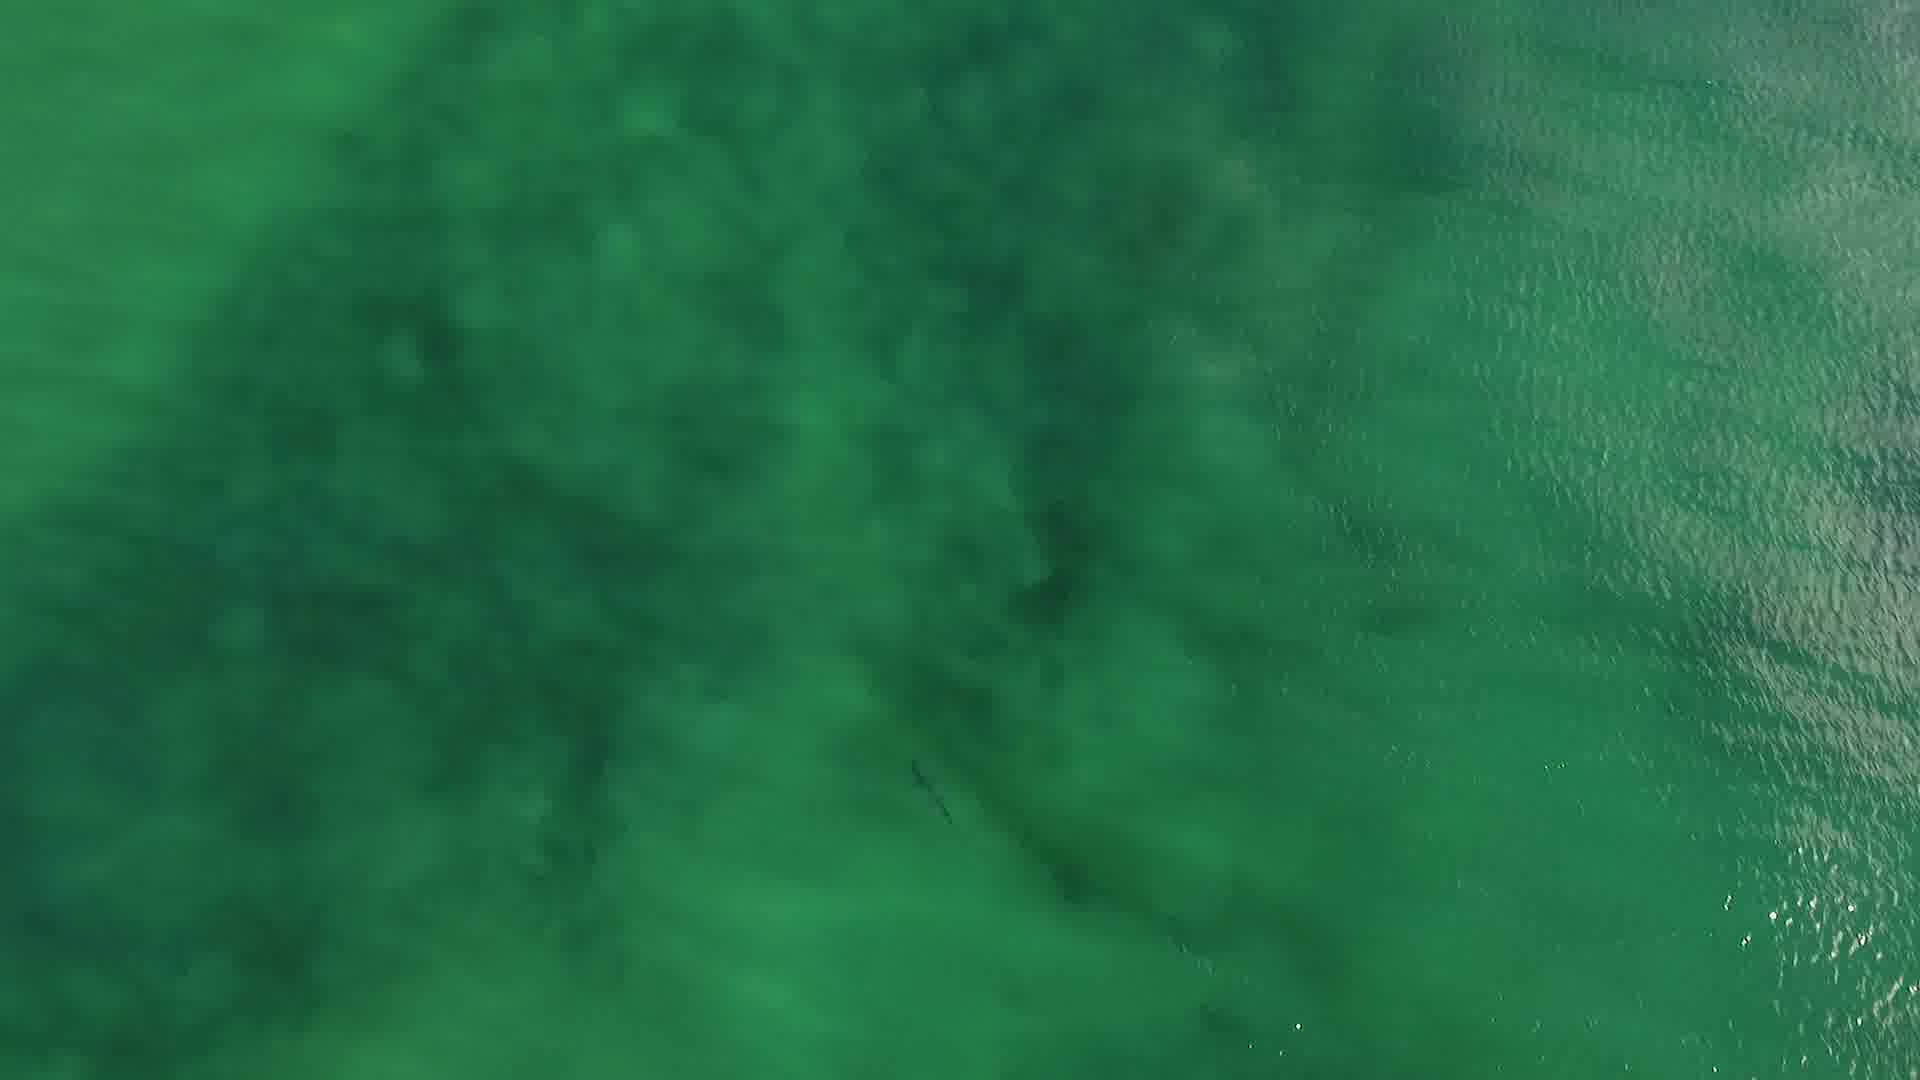shark: (899, 746, 957, 825)
